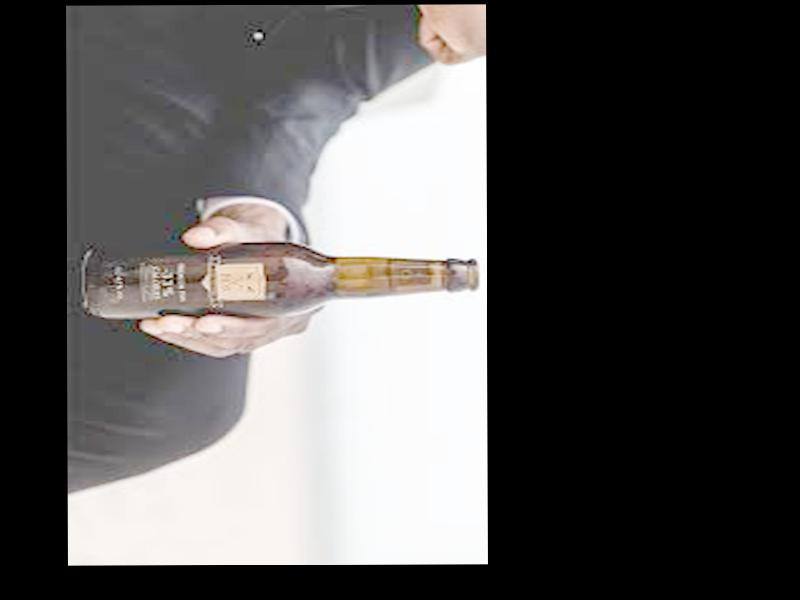Beer: (81, 243, 479, 319)
